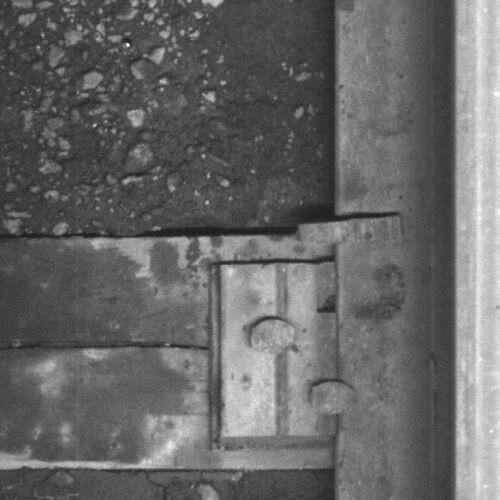crutch: (296, 213, 407, 249)
do: (220, 262, 358, 437)
hole_do: (308, 284, 348, 322)
rail: (456, 1, 500, 500)
tie_wood: (1, 236, 336, 471)
wood_crack: (1, 333, 212, 360)
